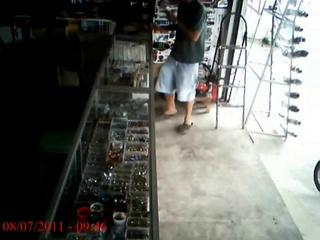Normal: (155, 0, 208, 132)
